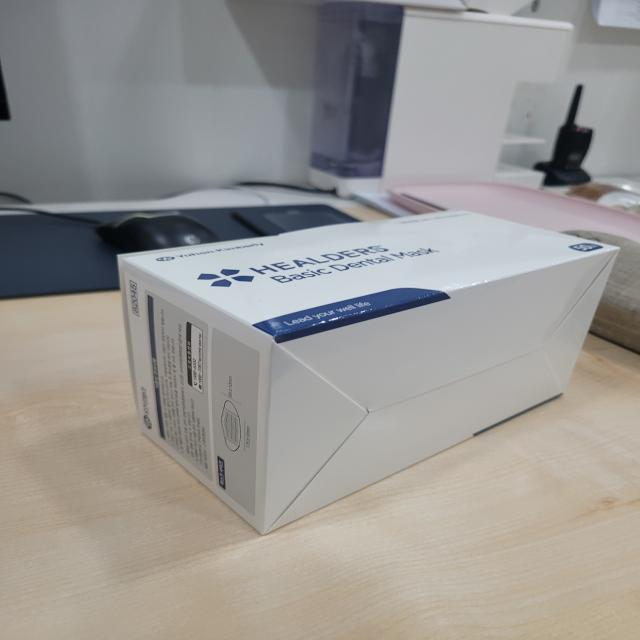mask: (101, 192, 640, 543)
